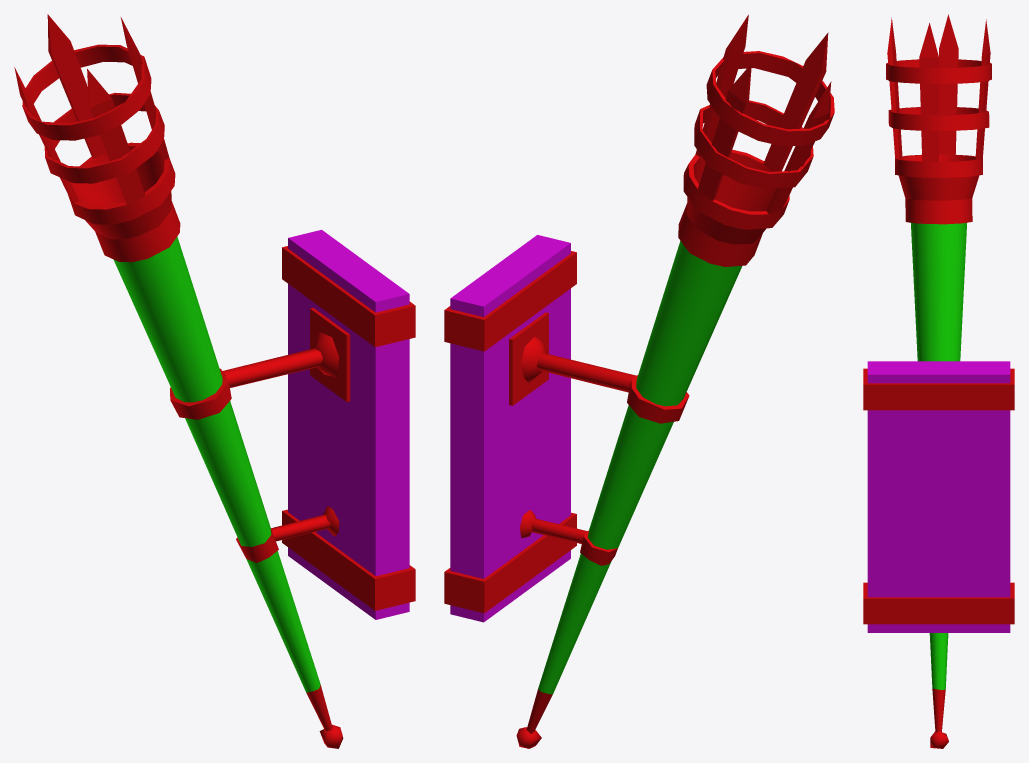
File: SM_Sconce.fbx
3 views of the same model, side by side, from view 1: azimuth 30°, elevation 25°; view 2: azimuth 150°, elevation 25°; view 3: azimuth 270°, elevation 25° (orthographic). The views are drawn at different scales.
Visible parts, largest first — view 1: SM_Sconce; view 2: SM_Sconce; view 3: SM_Sconce.
Boxes of the visible parts, x1,y1,x2,y2 form: SM_Sconce: [14, 14, 415, 748]; SM_Sconce: [444, 14, 834, 748]; SM_Sconce: [863, 14, 1014, 748].
Bounding box in the file's own units: 41.35 × 19.13 × 89.09.
